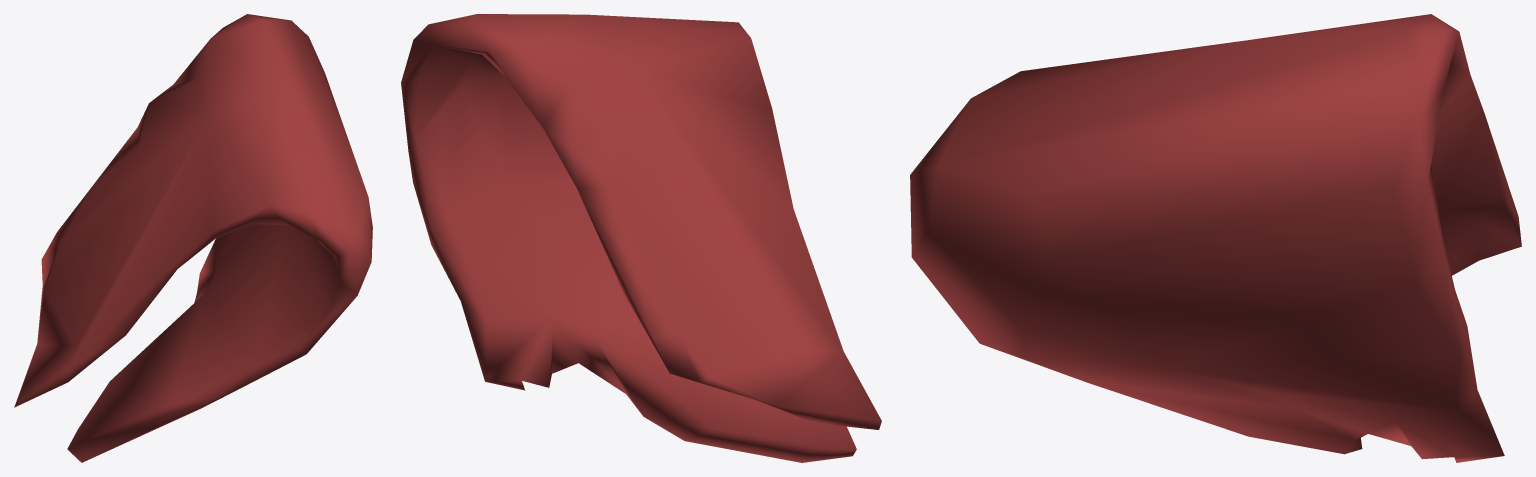
File: intermediate-tendon-of-digastric-muscle-l.glb
3 renders of one model, left to right at view 1: azimuth 30°, elevation 25°; view 2: azimuth 150°, elevation 25°; view 3: azimuth 270°, elevation 25°, orthographic. The views are drawn at different scales.
Visible parts, largest first — view 1: Intermediate tendon of digastric muscle.l; view 2: Intermediate tendon of digastric muscle.l; view 3: Intermediate tendon of digastric muscle.l.
Boxes of the visible parts, box(x1,y1,x2,y2) form: Intermediate tendon of digastric muscle.l: box(14, 14, 372, 462); Intermediate tendon of digastric muscle.l: box(401, 14, 881, 462); Intermediate tendon of digastric muscle.l: box(910, 14, 1521, 462).
Bounding box in the file's own units: 0.0079 × 0.00749 × 0.00712.
